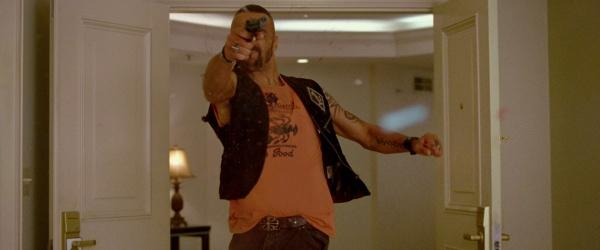Gun: (243, 16, 268, 42)
